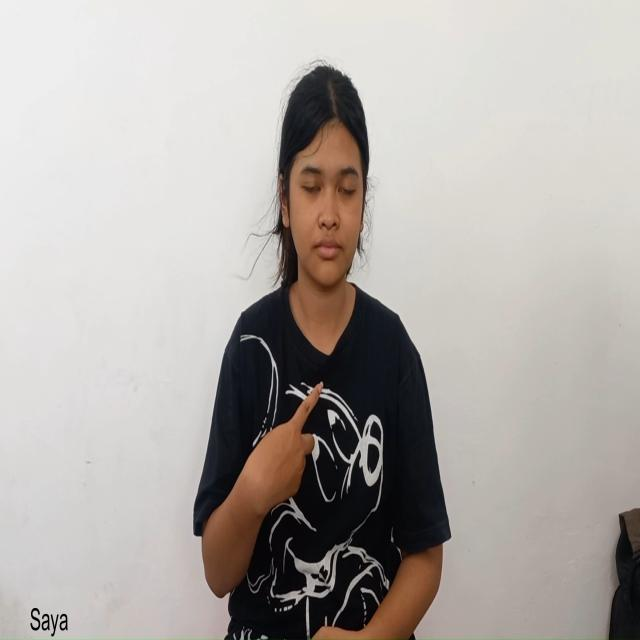Saya -BISINDO-: (201, 379, 325, 599)
